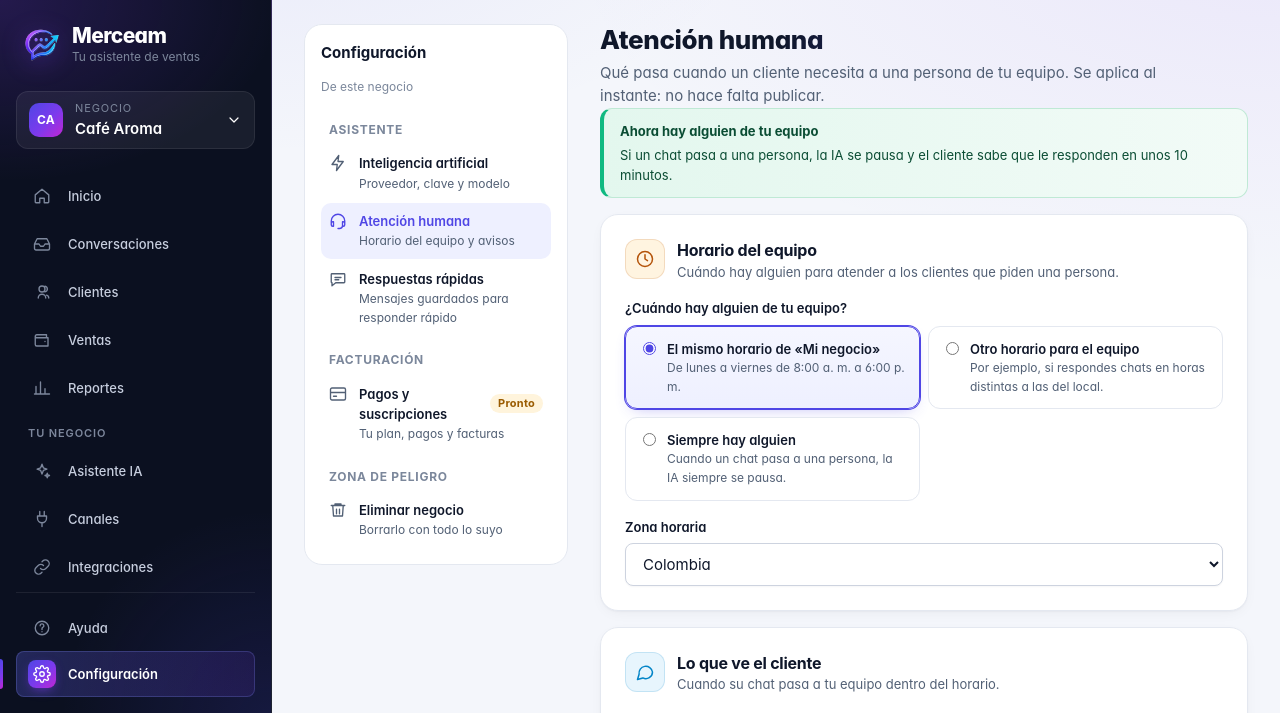
Test: Configuración → Atención humana › muestra el problema del servidor junto al horario
The width and height of the screenshot is (1280, 713).
Expected: the heading "Atención humana" is shown, [600, 24, 1206, 55]
Click the radio button labelled "Otro horario para el equipo" at (952, 348), box [946, 342, 959, 355]
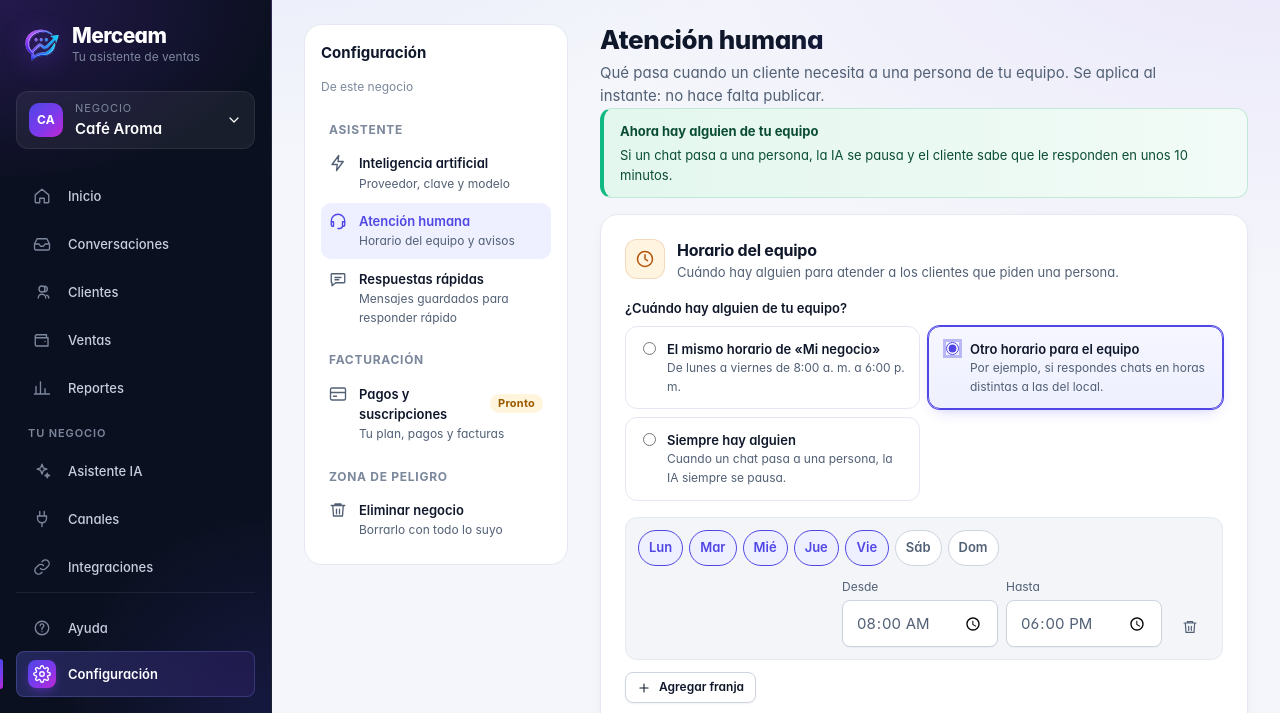
Click the button named "Quitar la franja 1" at (1190, 627), box [1170, 607, 1210, 647]
(page scrolled)
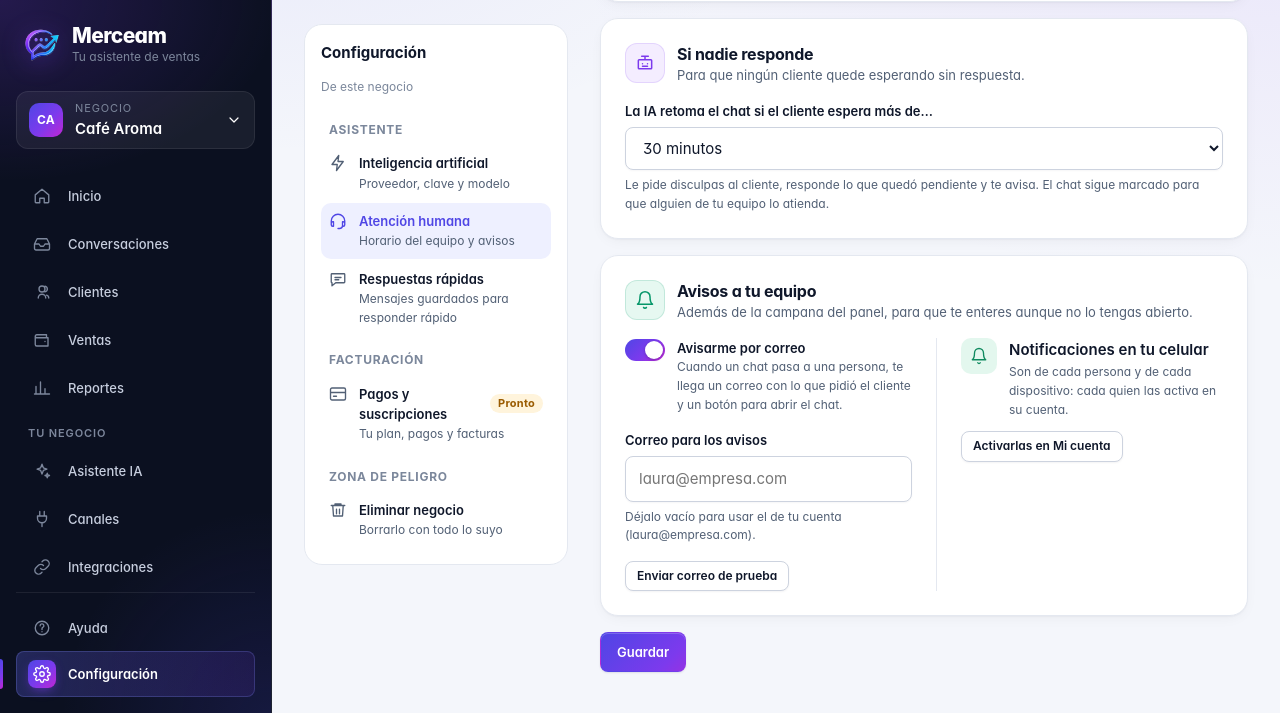
Click the button "Guardar" at (643, 652), box [600, 632, 686, 672]
(page scrolled)
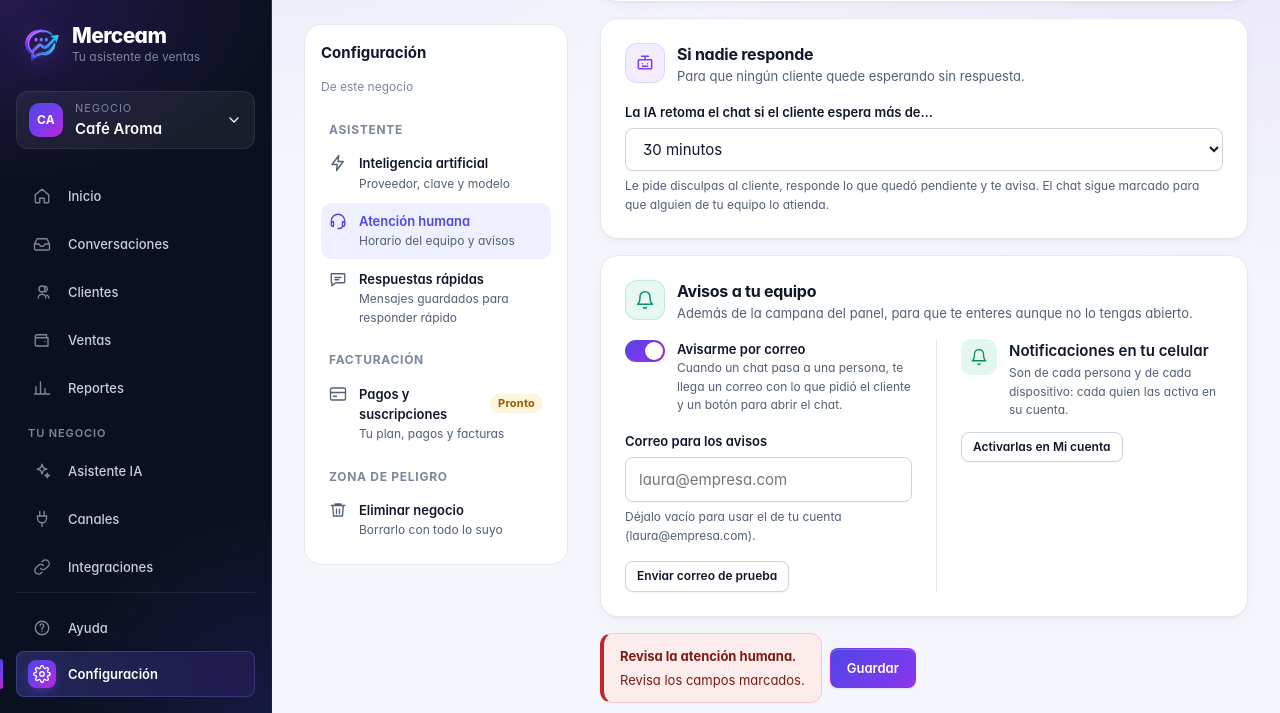
Expected: the text "Revisa los campos marcados." is shown, [620, 672, 805, 688]
